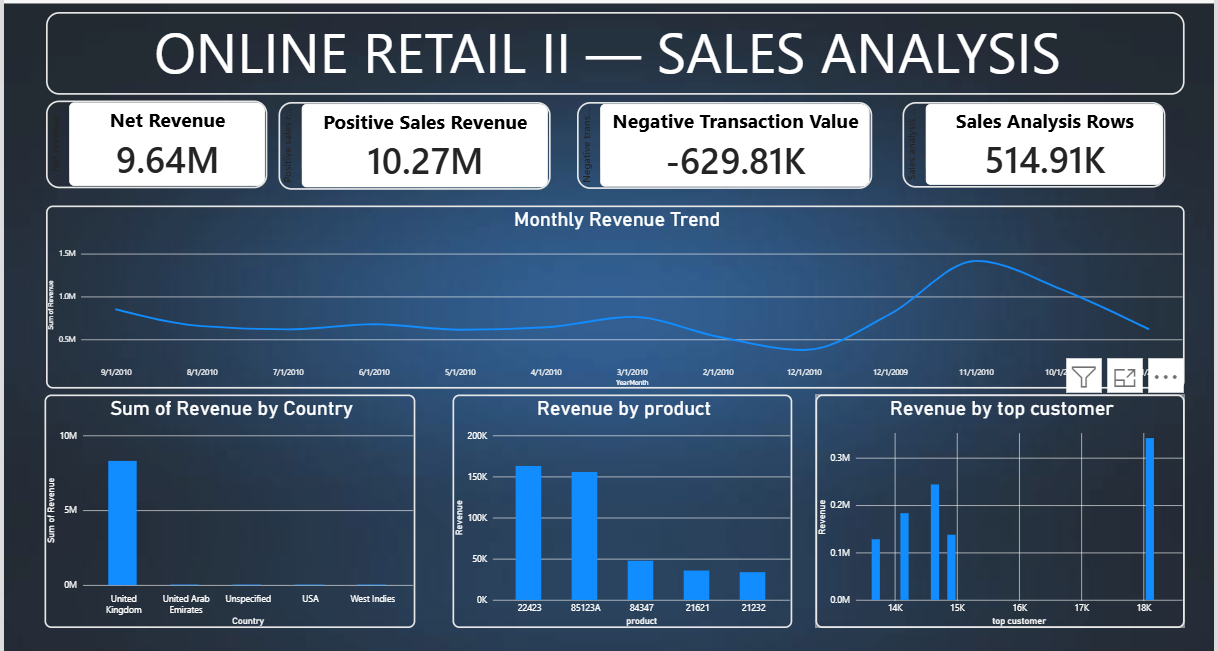

The page's visual inventory and layout, read from the dashboard file:
{"tool":"powerbi","page":{"name":"Executive Dashboard","canvas":[1920,1080],"ordinal":0},"visuals":[{"type":"textbox","box":[65.6,32.8,1807.6,131.3],"z":0},{"type":"cardVisual","fields":{"Data":["Sum(kpi_summary.Value)"],"Rows":["kpi_summary.Metric"]},"box":[65.6,173.5,351.2,139],"z":1000},{"type":"cardVisual","fields":{"Data":["Sum(kpi_summary.Value)"],"Rows":["kpi_summary.Metric"]},"box":[436.1,175.8,431.7,139],"z":2000},{"type":"cardVisual","fields":{"Data":["Sum(kpi_summary.Value)"],"Rows":["kpi_summary.Metric"]},"box":[909.7,175.8,468.9,138.3],"z":3000},{"type":"cardVisual","fields":{"Data":["Sum(kpi_summary.Value)"],"Rows":["kpi_summary.Metric"]},"box":[1425.4,175.8,417.3,136],"z":4000},{"type":"lineChart","title":"Monthly Revenue Trend","fields":{"Category":["monthly_revenue.YearMonth"],"Y":["Sum(monthly_revenue.Revenue)"]},"box":[65.6,339.9,1807.6,290.7],"z":4001},{"type":"clusteredColumnChart","fields":{"Category":["country_revenue.Country"],"Y":["Sum(country_revenue.Revenue)"]},"box":[64.6,639.6,588.6,370.8],"z":4002},{"type":"clusteredColumnChart","fields":{"Y":["Sum(top_products.Revenue)"],"Category":["top_products.StockCode"]},"box":[712.7,640,539.2,370.4],"z":4003},{"type":"clusteredColumnChart","fields":{"Y":["Sum(top_customers.Revenue)"],"Category":["top_customers.Customer ID"]},"box":[1287.1,640,586.1,370.4],"z":4004}]}

Visuals, with their boxes in screenshot pixels (x1, y1, x2, y2):
textbox: pyautogui.locateOnScreen(0, 14, 1112, 95)
cardVisual - Sum(kpi_summary.Value) x kpi_summary.Metric: pyautogui.locateOnScreen(0, 100, 215, 186)
cardVisual - Sum(kpi_summary.Value) x kpi_summary.Metric: pyautogui.locateOnScreen(227, 102, 493, 187)
cardVisual - Sum(kpi_summary.Value) x kpi_summary.Metric: pyautogui.locateOnScreen(519, 102, 807, 187)
cardVisual - Sum(kpi_summary.Value) x kpi_summary.Metric: pyautogui.locateOnScreen(836, 102, 1093, 186)
"Monthly Revenue Trend" lineChart: pyautogui.locateOnScreen(0, 203, 1112, 382)
clusteredColumnChart - country_revenue.Country x Sum(country_revenue.Revenue): pyautogui.locateOnScreen(0, 387, 361, 616)
clusteredColumnChart - Sum(top_products.Revenue) x top_products.StockCode: pyautogui.locateOnScreen(397, 388, 729, 616)
clusteredColumnChart - Sum(top_customers.Revenue) x top_customers.Customer ID: pyautogui.locateOnScreen(751, 388, 1112, 616)
